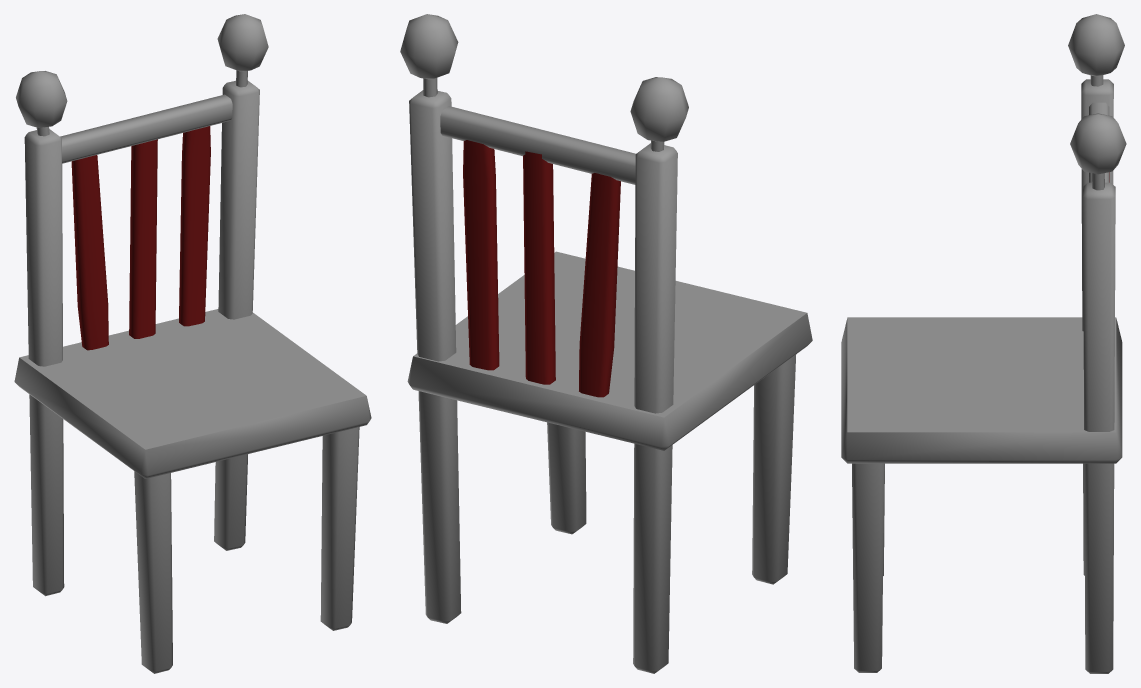
File: chairB.FBX
3 views of the same model, side by side, from view 1: azimuth 30°, elevation 25°; view 2: azimuth 150°, elevation 25°; view 3: azimuth 270°, elevation 25° (orthographic). The views are drawn at different scales.
Parts seen in each view (by area): view 1: chairB; view 2: chairB; view 3: chairB.
Boxes of the visible parts, box(x1,y1,x2,y2) form: chairB: box(14, 14, 371, 673); chairB: box(400, 14, 812, 673); chairB: box(841, 14, 1126, 673).
Size of the model in its own units: 3.11 by 6.33 by 2.9.
